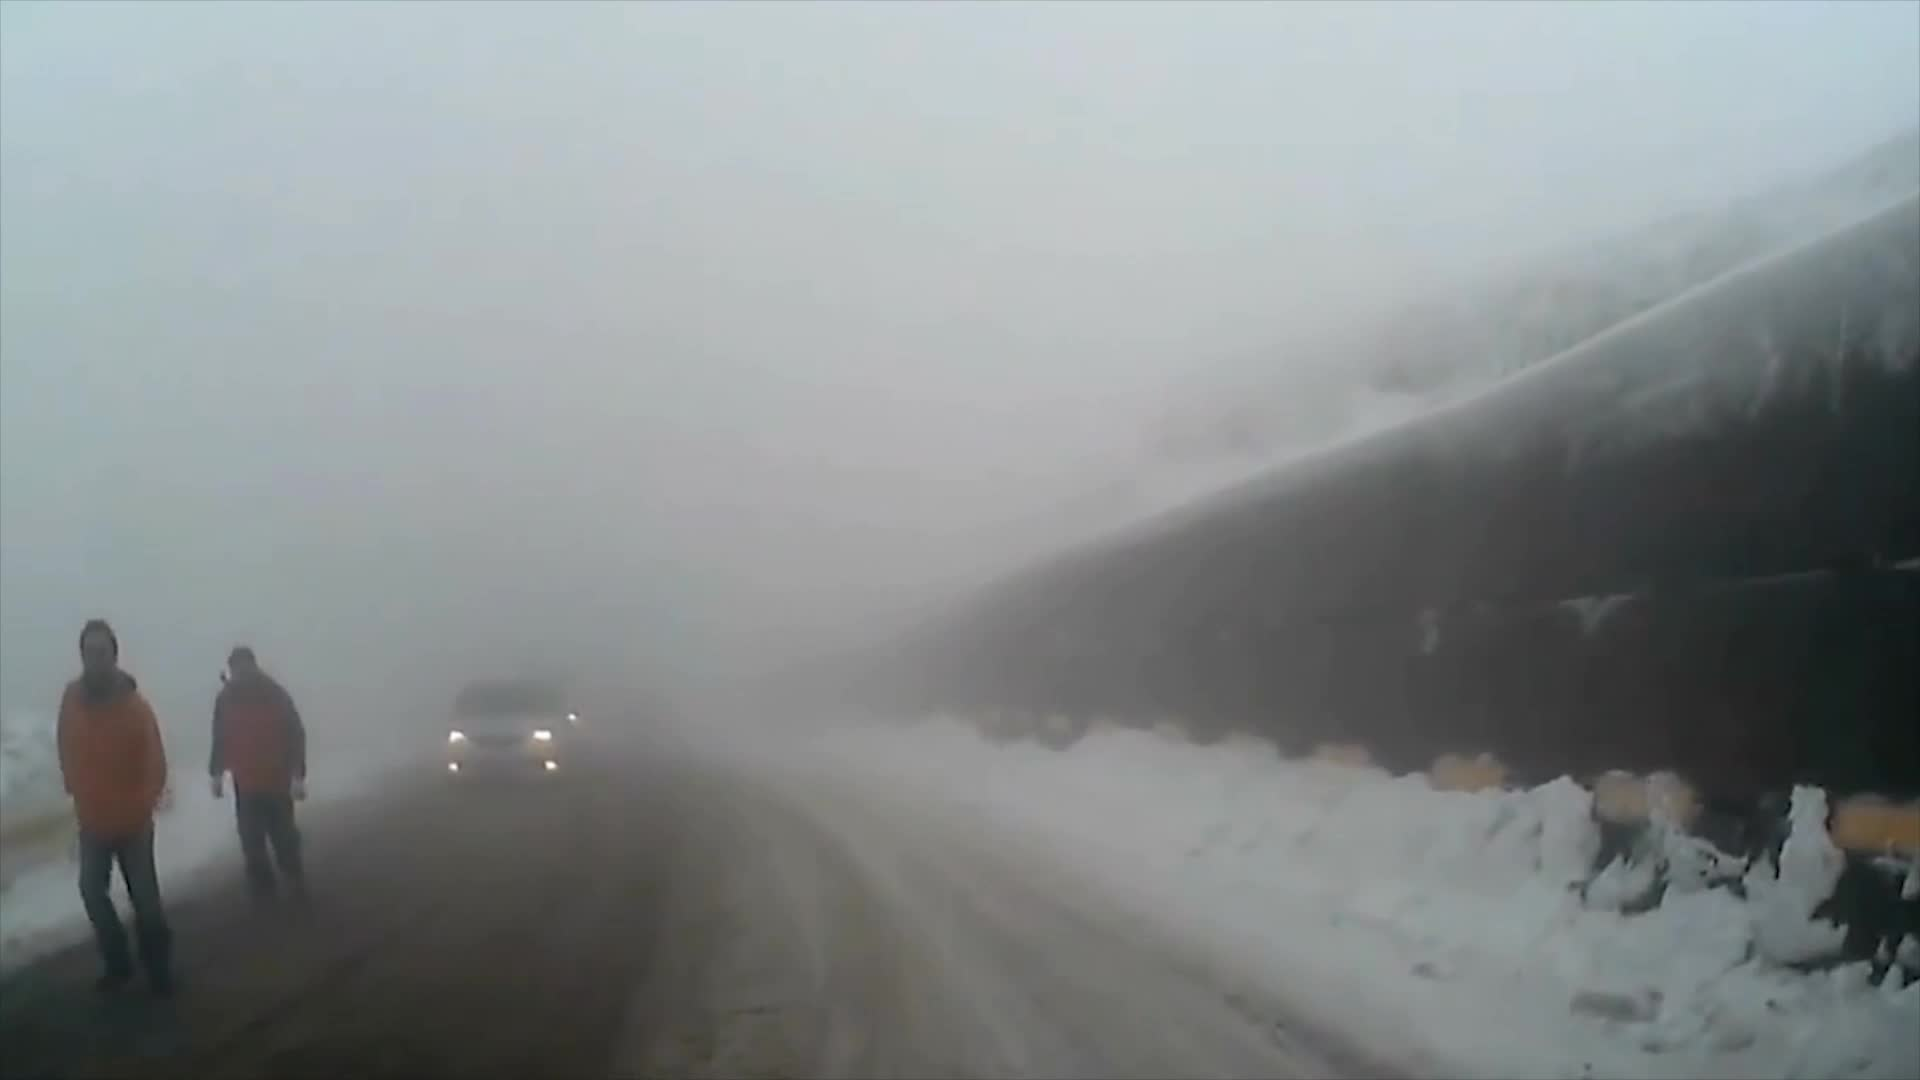pedestrian: (49, 616, 179, 1011), (206, 640, 313, 900)
vehicle: (441, 672, 571, 792)
